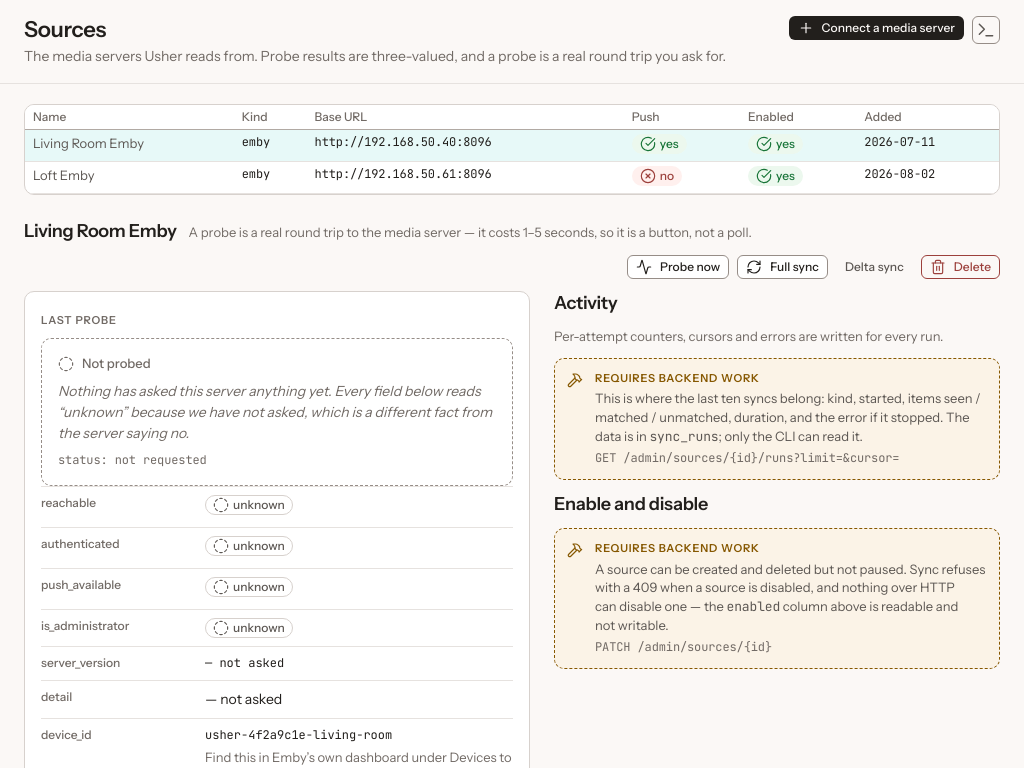
Test: Sources › frames a sync by consequence, states an unmeasured duration, and raises a Queued receipt
This screenshot has width=1024, height=768.
Expected: the text "Loft Emby" is shown, [25, 162, 234, 194]
Click the button "Full sync": (783, 267) [737, 255, 828, 279]
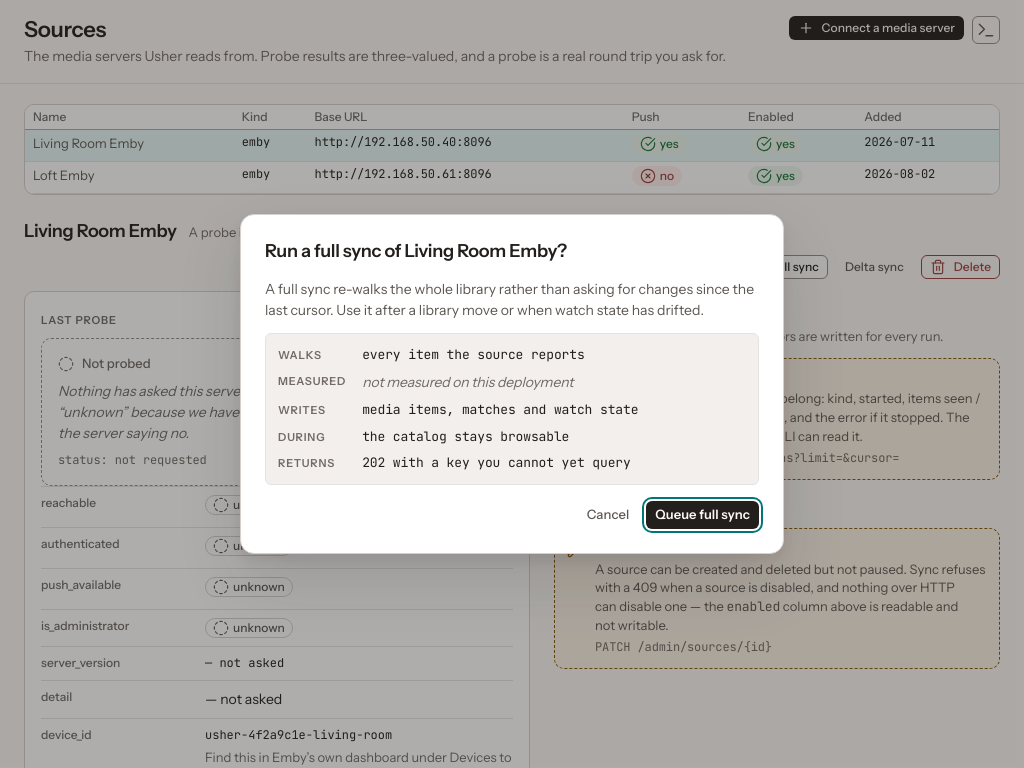
Expected: the heading "Run a full sync of Living Room Emby?" is shown, [265, 240, 567, 262]
Expected: the text "every item the source reports" is shown, [362, 346, 585, 363]
Expected: the text "not measured on this deployment" is shown, [362, 374, 573, 392]
Click the button "Queue full sync": (703, 515) [646, 501, 759, 529]
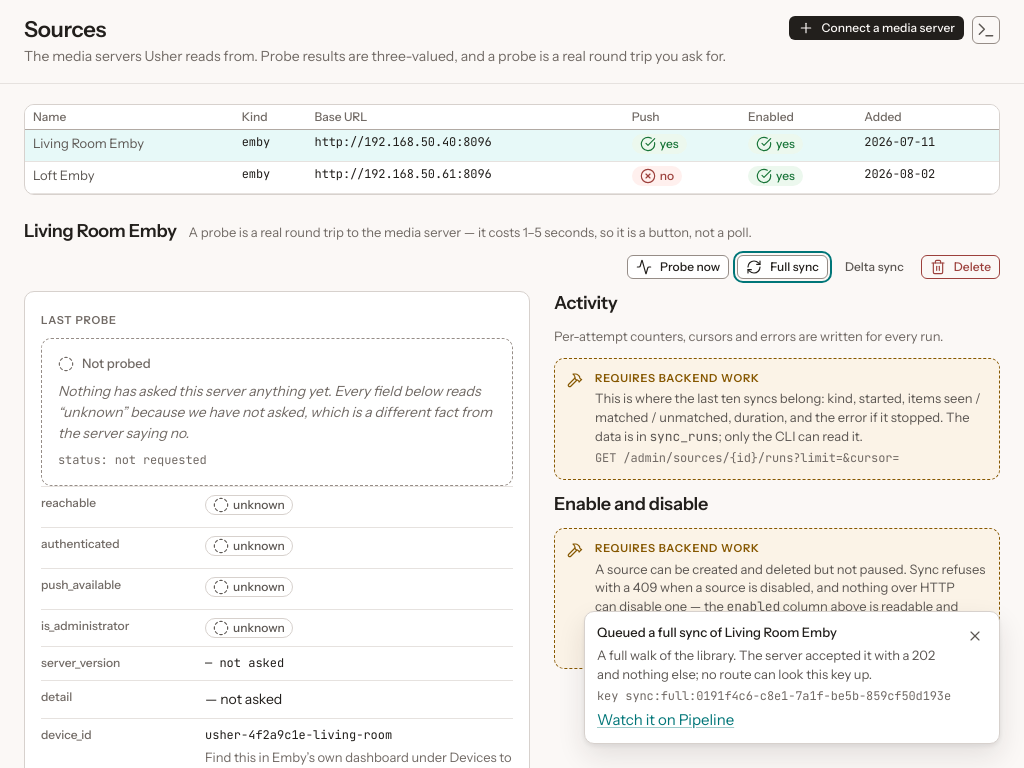
Expected: the message that starts with "Queued a full sync of Living Room Emby" is shown, [597, 624, 837, 640]
Expected: the link "Watch it on Pipeline" is shown, [597, 710, 734, 728]
